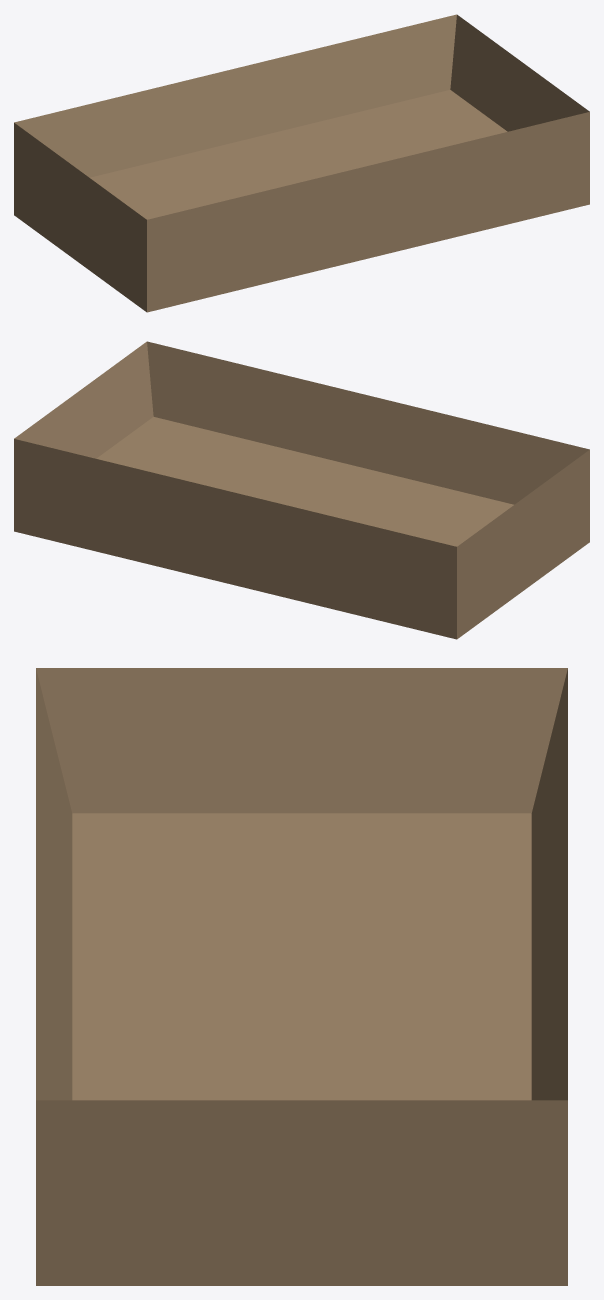
File: prop-grindstone-trough-blank-gf1.fbx
The picture shows the model from 3 angles, top to bottom: view 1: azimuth 30°, elevation 25°; view 2: azimuth 150°, elevation 25°; view 3: azimuth 270°, elevation 25°; orthographic projection. The views are drawn at different scales.
Visible parts, largest first — view 1: prop-grindstone-trough-blank-gf1; view 2: prop-grindstone-trough-blank-gf1; view 3: prop-grindstone-trough-blank-gf1.
Boxes of the visible parts, left/top/right/bottom form: prop-grindstone-trough-blank-gf1: left=14, top=14, right=589, bottom=312; prop-grindstone-trough-blank-gf1: left=14, top=341, right=589, bottom=639; prop-grindstone-trough-blank-gf1: left=36, top=668, right=567, bottom=1285.
Size of the model in its own units: 50 by 10 by 26.
